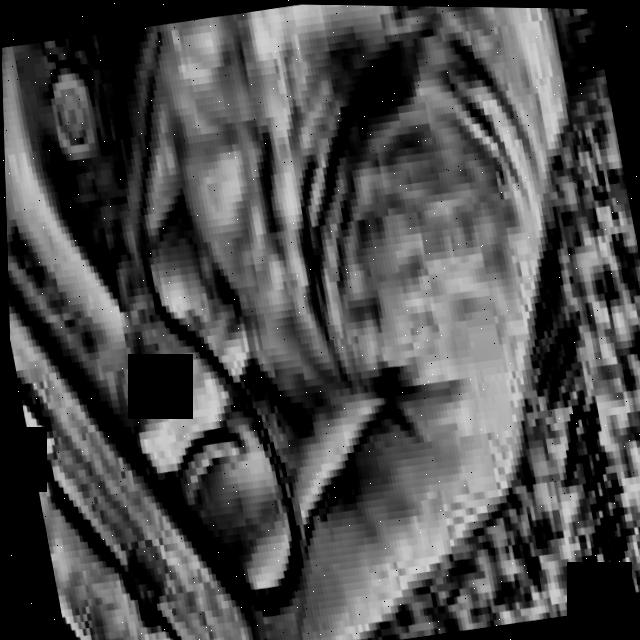Ruger: (0, 12, 336, 640)
